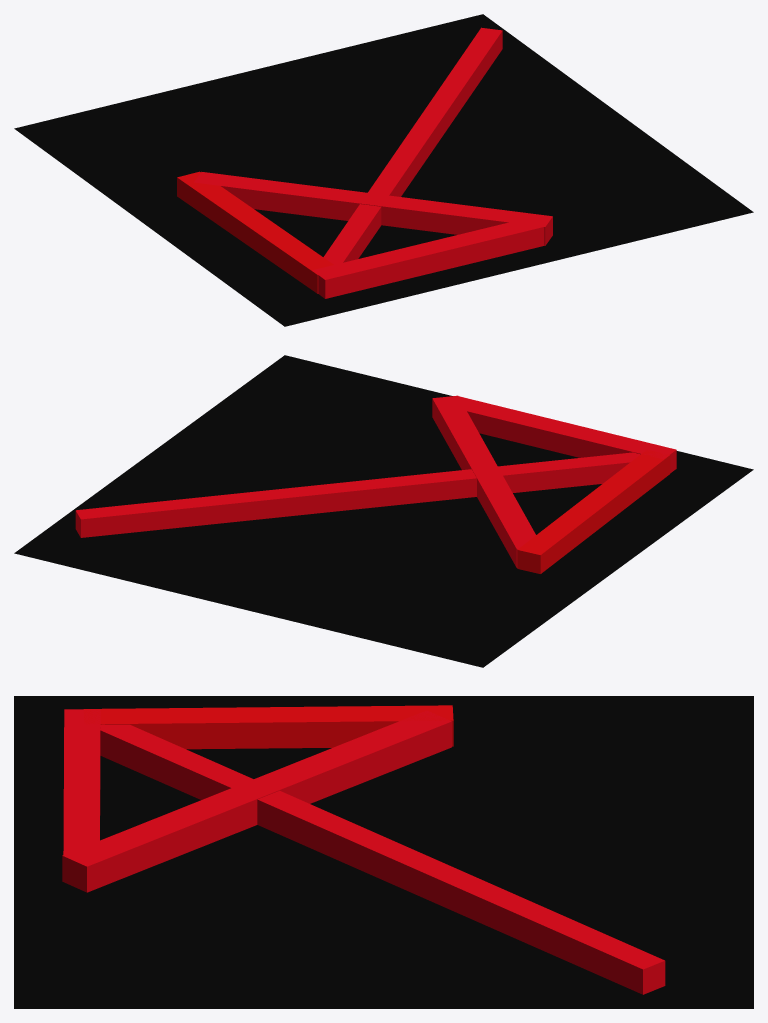
Rendered from Figura2.fbx.
The picture shows the model from 3 angles, top to bottom: view 1: azimuth 30°, elevation 25°; view 2: azimuth 150°, elevation 25°; view 3: azimuth 270°, elevation 25°; orthographic projection. The views are drawn at different scales.
Visible parts, largest first — view 1: Plane; view 2: Plane; view 3: Plane.
Part boxes in pixels (x1,y1,x2,y2): Plane: (14, 14, 753, 326); Plane: (14, 355, 753, 667); Plane: (14, 696, 753, 1008).
Bounding box in the file's own units: 258 × 10.22 × 258.
